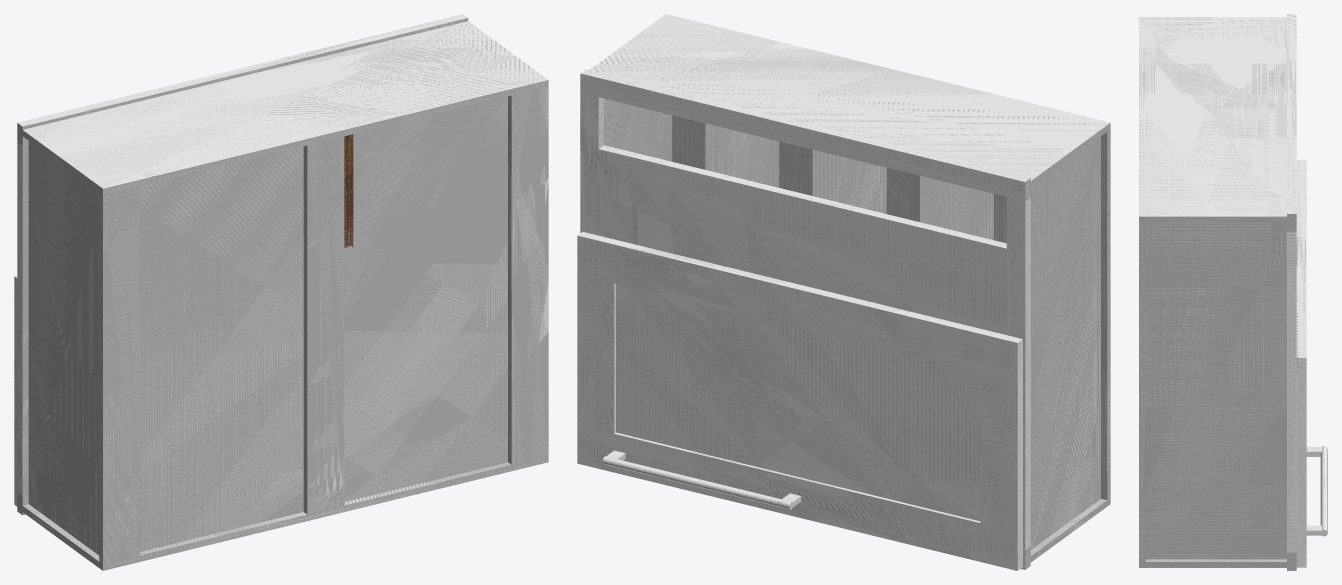
3 views of the same model, side by side, from view 1: azimuth 30°, elevation 25°; view 2: azimuth 150°, elevation 25°; view 3: azimuth 270°, elevation 25° (orthographic). The views are drawn at different scales.
Parts seen in each view (by area): view 1: mesh6_mesh6-geometry, mesh3_mesh3-geometry, mesh7_mesh7-geometry, mesh2_mesh2-geometry, mesh8_mesh8-geometry, mesh10_mesh10-geometry, mesh4_mesh4-geometry, mesh22_mesh22-geometry; view 2: mesh18_mesh18-geometry, mesh11_mesh11-geometry, mesh7_mesh7-geometry, mesh2_mesh2-geometry, mesh16_mesh16-geometry, mesh14_mesh14-geometry, mesh12_mesh12-geometry, mesh10_mesh10-geometry, mesh4_mesh4-geometry, mesh13_mesh13-geometry, mesh15_mesh15-geometry, mesh5_mesh5-geometry (+3 smaller); view 3: mesh1_mesh1-geometry, mesh7_mesh7-geometry, mesh4_mesh4-geometry, mesh16_mesh16-geometry, mesh3_mesh3-geometry, mesh10_mesh10-geometry, mesh15_mesh15-geometry, mesh8_mesh8-geometry, mesh19_mesh19-geometry, mesh14_mesh14-geometry.
Part boxes in pixels (x1,y1,x2,y2): mesh6_mesh6-geometry: [140, 96, 507, 551]; mesh3_mesh3-geometry: [99, 86, 548, 564]; mesh7_mesh7-geometry: [22, 21, 548, 194]; mesh2_mesh2-geometry: [28, 141, 99, 555]; mesh8_mesh8-geometry: [22, 456, 548, 570]; mesh10_mesh10-geometry: [17, 14, 468, 145]; mesh4_mesh4-geometry: [17, 142, 28, 495]; mesh22_mesh22-geometry: [344, 134, 353, 249]; mesh18_mesh18-geometry: [616, 284, 980, 521]; mesh11_mesh11-geometry: [598, 145, 1006, 334]; mesh7_mesh7-geometry: [589, 14, 1110, 187]; mesh2_mesh2-geometry: [604, 98, 1100, 549]; mesh16_mesh16-geometry: [577, 231, 1022, 381]; mesh14_mesh14-geometry: [577, 425, 1022, 570]; mesh12_mesh12-geometry: [696, 121, 993, 240]; mesh10_mesh10-geometry: [580, 69, 1030, 201]; mesh4_mesh4-geometry: [580, 93, 1030, 550]; mesh13_mesh13-geometry: [980, 373, 1022, 531]; mesh15_mesh15-geometry: [577, 274, 615, 433]; mesh5_mesh5-geometry: [672, 115, 1006, 243]; mesh1_mesh1-geometry: [1145, 222, 1286, 559]; mesh7_mesh7-geometry: [1139, 17, 1286, 222]; mesh4_mesh4-geometry: [1287, 231, 1296, 552]; mesh16_mesh16-geometry: [1296, 160, 1306, 393]; mesh3_mesh3-geometry: [1139, 222, 1145, 561]; mesh10_mesh10-geometry: [1287, 14, 1296, 231]; mesh15_mesh15-geometry: [1296, 393, 1306, 531]; mesh8_mesh8-geometry: [1139, 559, 1286, 567]; mesh19_mesh19-geometry: [1320, 446, 1327, 536]; mesh14_mesh14-geometry: [1296, 532, 1306, 567].
Bounding box in the file's own units: 0.7344 × 0.612 × 0.2933.
